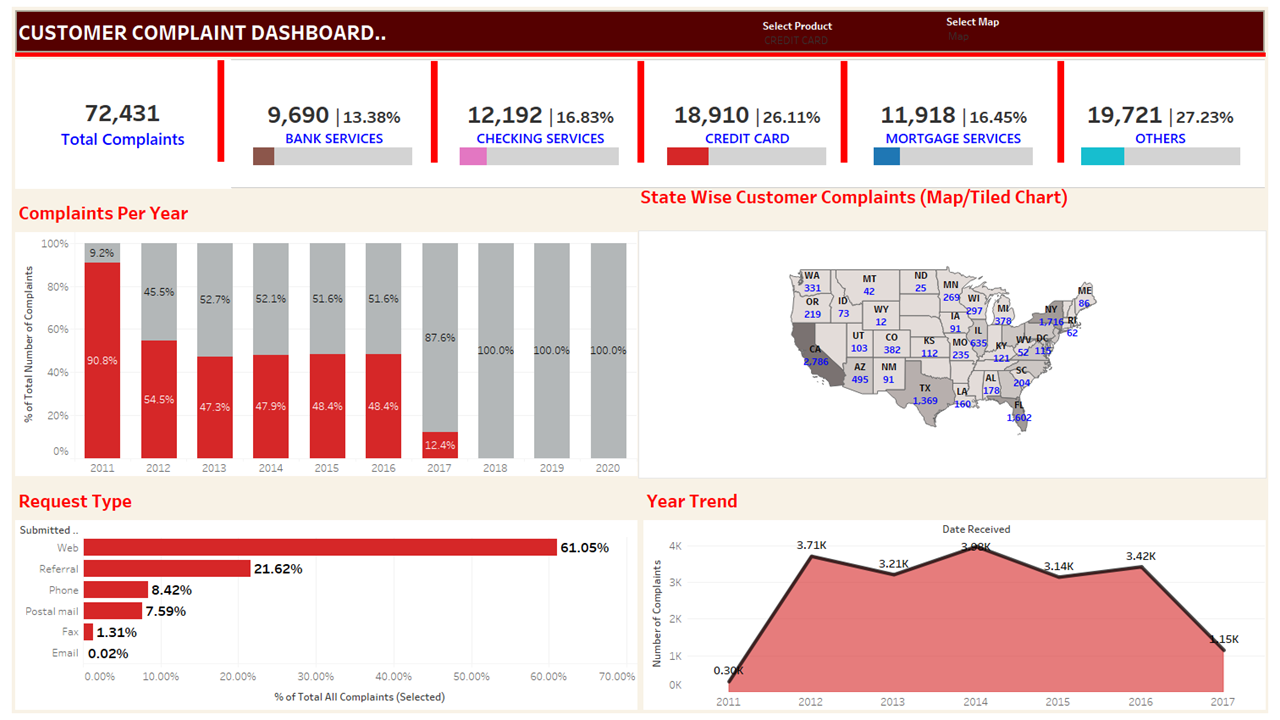

The dashboard page shown, as its layout file describes it:
{"tool":"tableau","page":{"name":"Dashboard 1","canvas":[1500,850],"ordinal":0},"visuals":[{"type":"title","box":[8,8,1484,58]},{"type":"parameter","param":"[Parameters].[Parameter 2]","box":[1111.9,16,150,44]},{"type":"parameter","param":"[Parameters].[Parameter 1]","box":[895.3,21,150,44]},{"type":"blank","box":[12.2,62,1476.6,5]},{"type":"worksheet","title":"Total Complaints ","mark":"Automatic","box":[8,66,259,160]},{"type":"worksheet","title":"Sheet 2","mark":"Automatic","box":[267,66,1225,160]},{"type":"blank","box":[251.2,71,7.5,120]},{"type":"blank","box":[503.4,72,7.5,120]},{"type":"blank","box":[747.2,72,7.5,120]},{"type":"blank","box":[987.2,72,7.5,120]},{"type":"blank","box":[1243.1,72,7.5,120]},{"type":"text","box":[748,208,739,48]},{"type":"worksheet","title":"Complaints Per Year","mark":"Bar","cols":["Date Received"],"box":[8,226,742,340]},{"type":"worksheet","title":"Map ALl","mark":"Multipolygon","box":[748,272,742,293]},{"type":"worksheet","title":"Tile ALL","mark":"Square","rows":["Row"],"cols":["Space"],"box":[747,274,745,289]},{"type":"worksheet","title":"Request Type","mark":"Automatic","rows":["Submitted via"],"box":[8,566,742,276]},{"type":"worksheet","title":"Year Trend","mark":"Area","rows":["Number of Complaints","Number of Complaints"],"cols":["Date Received"],"box":[750,566,742,276]}]}

Visuals, with their boxes in screenshot pixels (x1, y1, x2, y2), scaled from the page's 1500x850 canvas onto the 1280x720 screenshot:
title: <region>7, 7, 1273, 56</region>
parameter: <region>949, 14, 1077, 51</region>
parameter: <region>764, 18, 892, 55</region>
blank: <region>10, 53, 1270, 57</region>
"Total Complaints " worksheet: <region>7, 56, 228, 191</region>
"Sheet 2" worksheet: <region>228, 56, 1273, 191</region>
blank: <region>214, 60, 221, 162</region>
blank: <region>430, 61, 436, 163</region>
blank: <region>638, 61, 644, 163</region>
blank: <region>842, 61, 849, 163</region>
blank: <region>1061, 61, 1067, 163</region>
text: <region>638, 176, 1269, 217</region>
"Complaints Per Year" worksheet (Bar marks): <region>7, 191, 640, 479</region>
"Map ALl" worksheet (Multipolygon marks): <region>638, 230, 1271, 479</region>
"Tile ALL" worksheet (Square marks): <region>637, 232, 1273, 477</region>
"Request Type" worksheet: <region>7, 479, 640, 713</region>
"Year Trend" worksheet (Area marks): <region>640, 479, 1273, 713</region>
